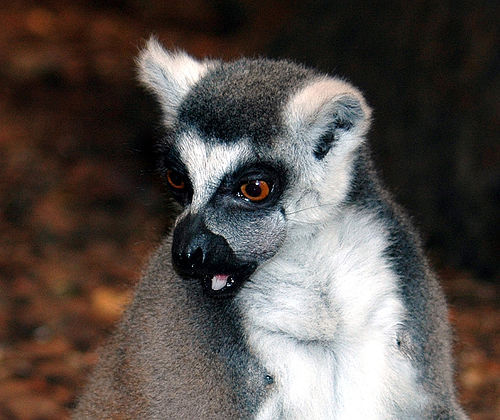cat: (72, 34, 467, 418)
